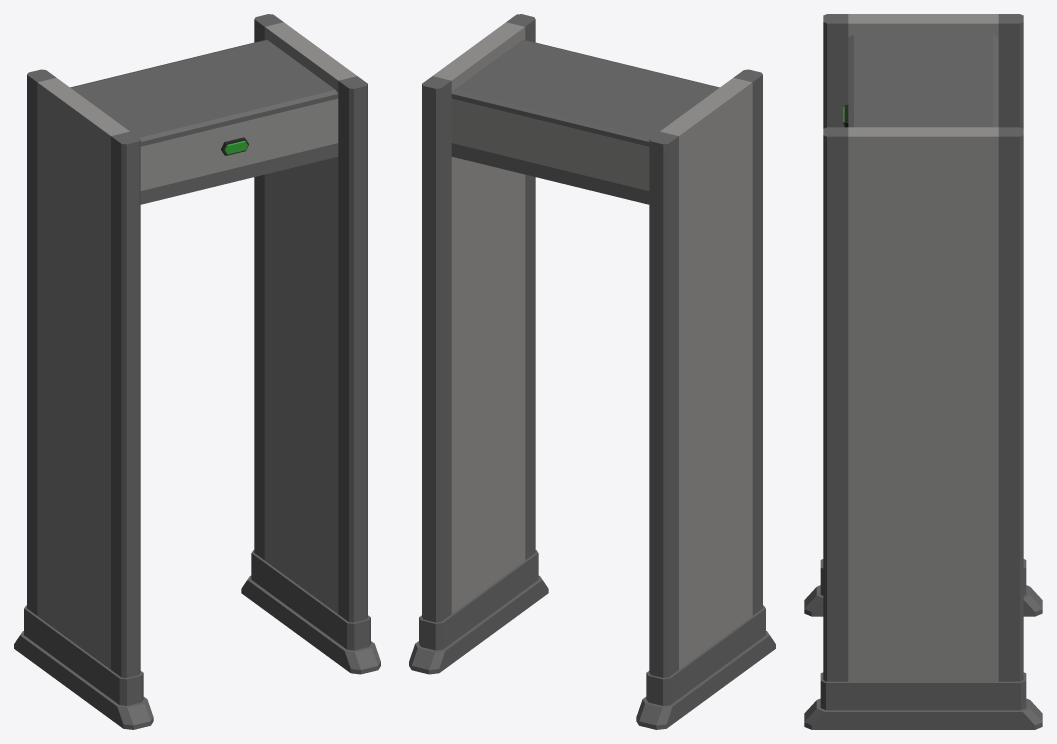
The model's file is SM_Bldg_City_Airport_SecurityCheck_Passenger.fbx.
The picture shows the model from 3 angles, left to right: view 1: azimuth 30°, elevation 25°; view 2: azimuth 150°, elevation 25°; view 3: azimuth 270°, elevation 25°; orthographic projection. The views are drawn at different scales.
Visible parts, largest first — view 1: SM_Bldg_City_Airport_SecurityCheck_Passenger; view 2: SM_Bldg_City_Airport_SecurityCheck_Passenger; view 3: SM_Bldg_City_Airport_SecurityCheck_Passenger.
Boxes of the visible parts, box(x1,y1,x2,y2) form: SM_Bldg_City_Airport_SecurityCheck_Passenger: box(14, 14, 380, 729); SM_Bldg_City_Airport_SecurityCheck_Passenger: box(409, 14, 775, 729); SM_Bldg_City_Airport_SecurityCheck_Passenger: box(804, 14, 1042, 729).
Size of the model in its own units: 121 by 260 by 95.2.
